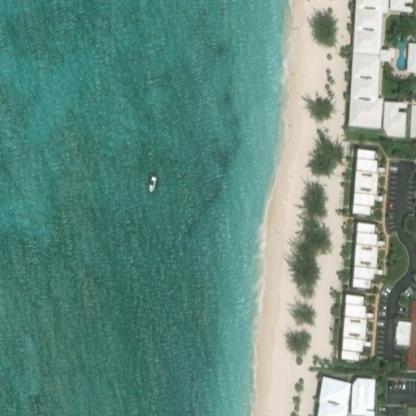ship: (148, 0, 156, 8)
